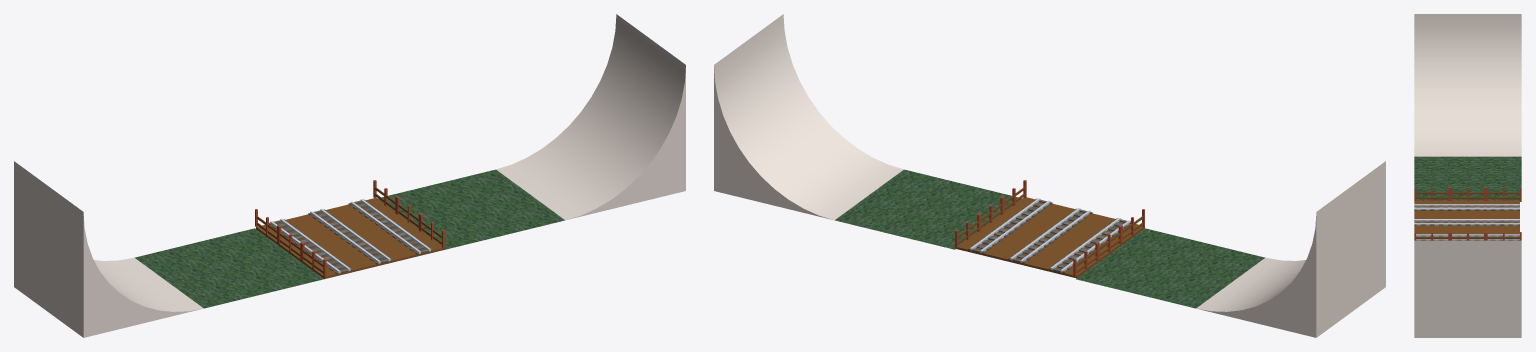
The model's file is Floor1.obj.
3 renders of one model, left to right at view 1: azimuth 30°, elevation 25°; view 2: azimuth 150°, elevation 25°; view 3: azimuth 270°, elevation 25°, orthographic. The views are drawn at different scales.
Parts seen in each view (by area): view 1: mergedBlocks; view 2: mergedBlocks; view 3: mergedBlocks.
Part boxes in pixels (bbox=[...]): mergedBlocks: bbox=[14, 14, 685, 337]; mergedBlocks: bbox=[714, 14, 1385, 337]; mergedBlocks: bbox=[1414, 14, 1521, 337].
Bounding box in the file's own units: 15 × 3 × 3.
